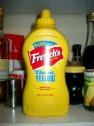grozi_40: (21, 9, 68, 117)
